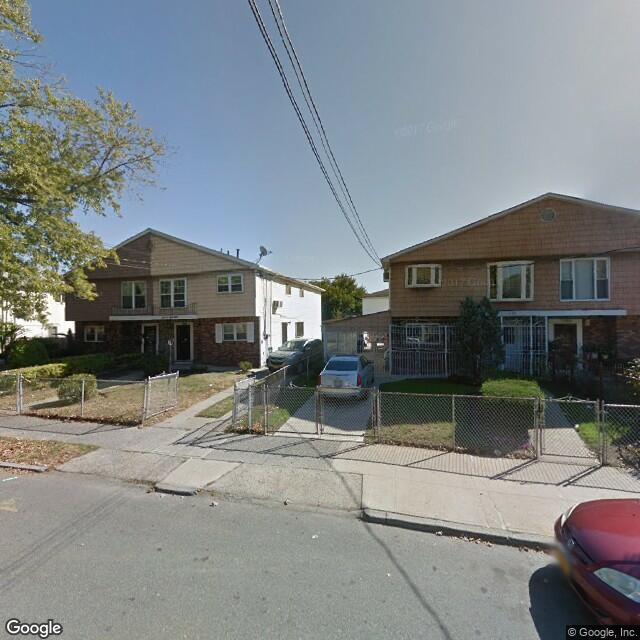litter: (2, 473, 19, 484), (385, 571, 393, 578), (313, 531, 320, 538)
